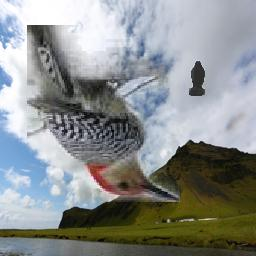Crow: (189, 60, 205, 96)
Woodpecker: (28, 26, 181, 203)
